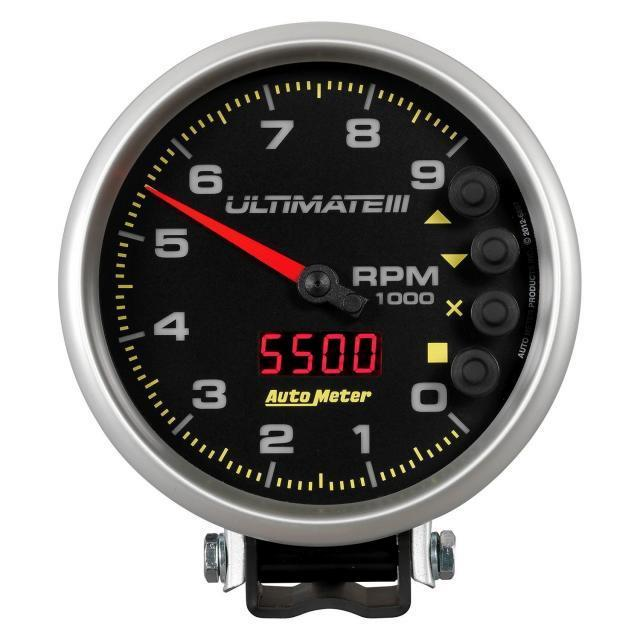Needle_Tip: (129, 175, 221, 231)
Needle_base: (278, 256, 358, 311)
max_value: (404, 139, 455, 207)
min_value: (391, 358, 478, 425)
